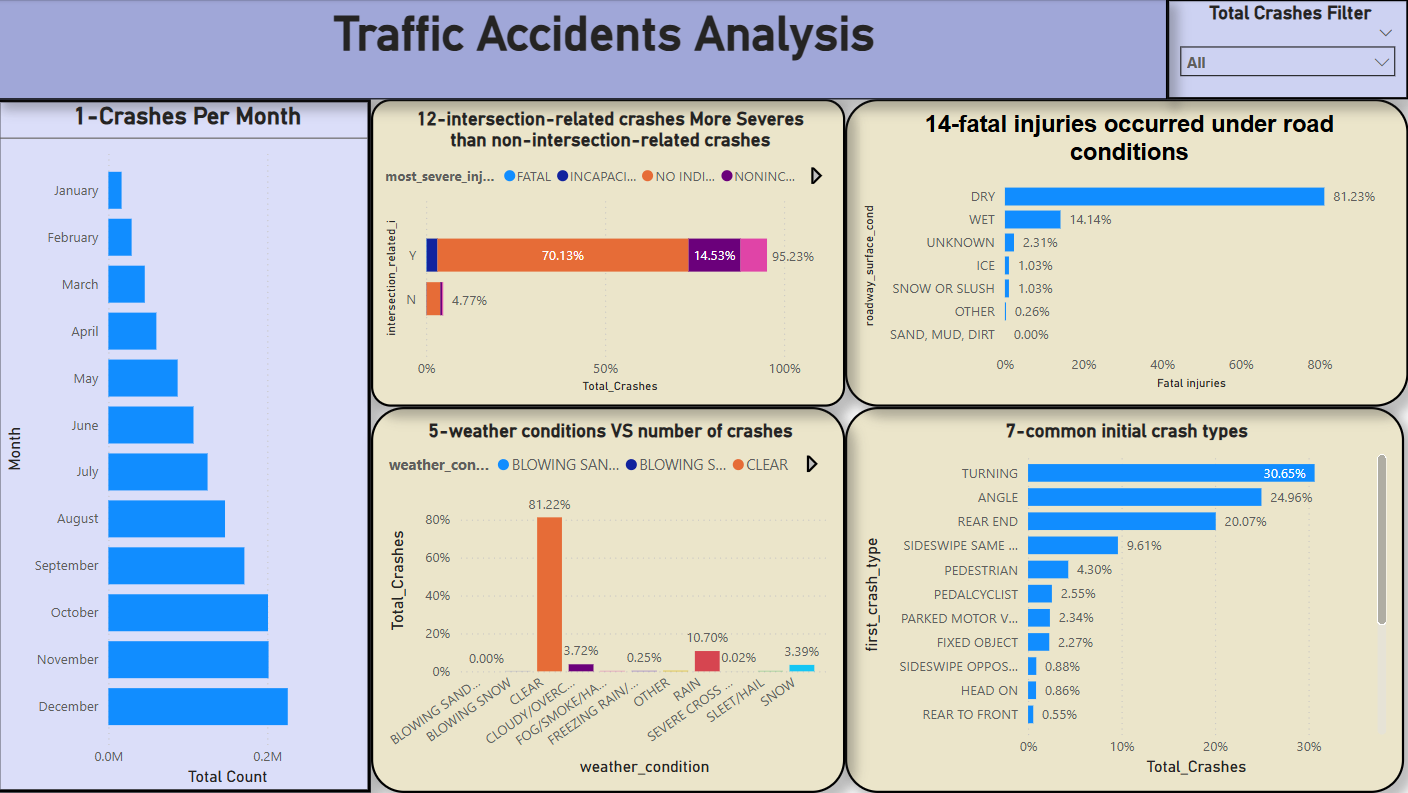

This screenshot's page, from the dashboard's own definition file:
{"tool":"powerbi","page":{"name":"DASHBOARD","canvas":[1280,720],"ordinal":5},"visuals":[{"type":"barChart","title":"1-Crashes Per Month","fields":{"Category":["traffic_accidents.crash_date.Variation.Date Hierarchy.Month"],"Y":["Sum(traffic_accidents.crash_month)"]},"box":[0,90.7,339.1,629.3],"z":0},{"type":"clusteredBarChart","title":"7-common initial crash types","fields":{"Category":["traffic_accidents.first_crash_type"],"Y":["Sum(traffic_accidents.Total_Crashes)"]},"box":[769,370,506.9,350],"z":1000},{"type":"columnChart","title":"5-weather conditions VS number of crashes","fields":{"Category":["traffic_accidents.weather_condition"],"Series":["traffic_accidents.weather_condition"],"Y":["Sum(traffic_accidents.Total_Crashes)"]},"box":[339.1,370,429.8,350],"z":2000},{"type":"barChart","title":"14-fatal injuries occurred under  road conditions","fields":{"Y":["Sum(traffic_accidents.injuries_fatal)"],"Category":["traffic_accidents.roadway_surface_cond"]},"box":[769,90.7,511.4,279.3],"z":3000},{"type":"barChart","title":"12-intersection-related crashes More Severes than non-intersection-related crashes","fields":{"Category":["traffic_accidents.intersection_related_i"],"Series":["traffic_accidents.most_severe_injury"],"Y":["Sum(traffic_accidents.Total_Crashes)"]},"box":[339.1,90.7,429.8,279.3],"z":4000},{"type":"slicer","title":"Total Crashes Filter","fields":{"Values":["traffic_accidents.crash_type","traffic_accidents.crash_date","traffic_accidents.most_severe_injury","traffic_accidents.Damage"]},"box":[1061,0,219.4,90.7],"z":5000},{"type":"textbox","box":[0,0,1061,90.7],"z":6000}]}

Visuals, with their boxes in screenshot pixels (x1, y1, x2, y2), scaled from the page's 1280x720 canvas onto the 1408x793 screenshot:
"1-Crashes Per Month" barChart: bbox(0, 100, 373, 792)
"7-common initial crash types" clusteredBarChart: bbox(846, 408, 1403, 792)
"5-weather conditions VS number of crashes" columnChart: bbox(373, 408, 846, 792)
"14-fatal injuries occurred under  road conditions" barChart: bbox(846, 100, 1407, 408)
"12-intersection-related crashes More Severes than non-intersection-related crashes" barChart: bbox(373, 100, 846, 408)
"Total Crashes Filter" slicer: bbox(1167, 0, 1407, 100)
textbox: bbox(0, 0, 1167, 100)
